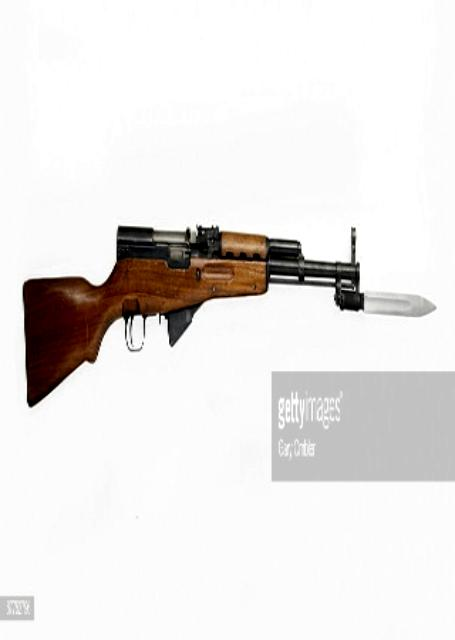rifle: (11, 202, 444, 414)
